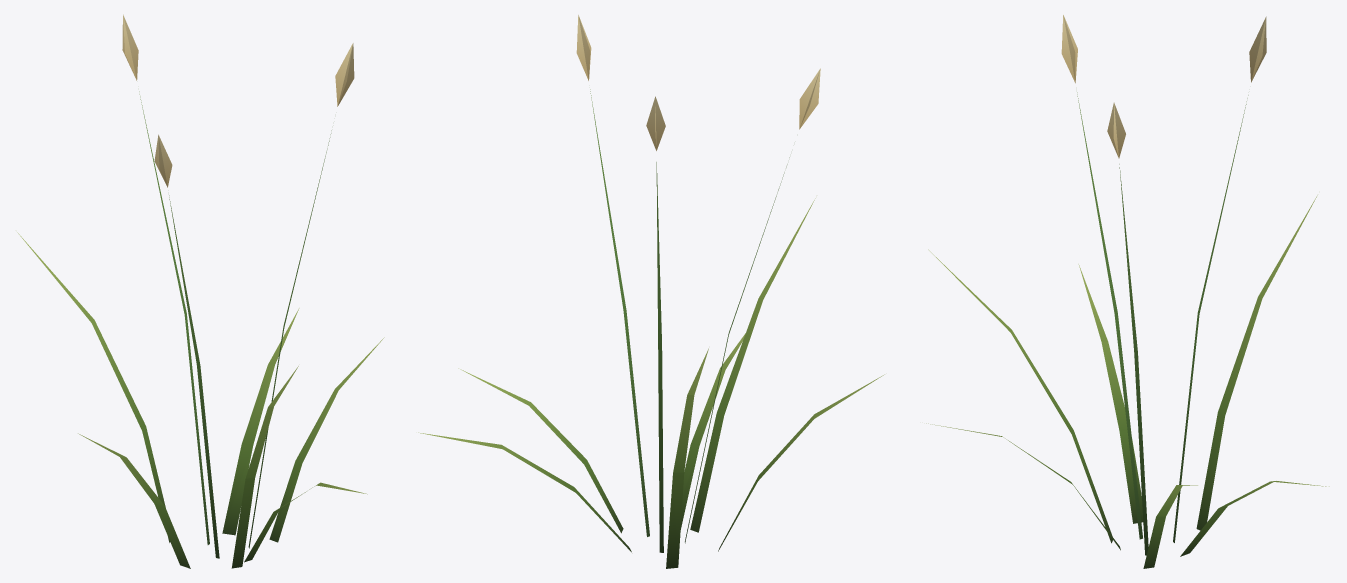
The model's file is grass_tall_seeded_01.glb.
3 views of the same model, side by side, from view 1: azimuth 30°, elevation 25°; view 2: azimuth 150°, elevation 25°; view 3: azimuth 270°, elevation 25° (orthographic).
Parts seen in each view (by area): view 1: grass_tall_seeded_01_mesh; view 2: grass_tall_seeded_01_mesh; view 3: grass_tall_seeded_01_mesh.
Part boxes in pixels (left/top/right/bottom): grass_tall_seeded_01_mesh: left=17, top=14, right=384, bottom=568; grass_tall_seeded_01_mesh: left=418, top=15, right=884, bottom=568; grass_tall_seeded_01_mesh: left=926, top=15, right=1329, bottom=568.
Bounding box in the file's own units: 0.4257 × 0.5509 × 0.41.
